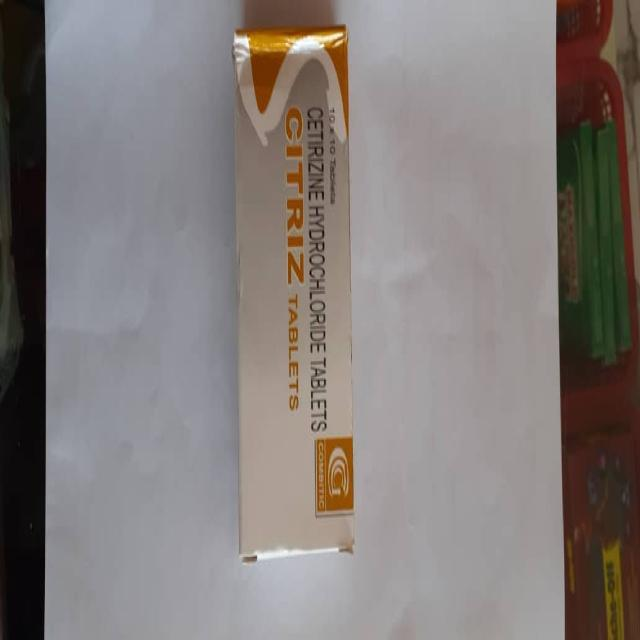drug-name: (283, 105, 307, 287)
